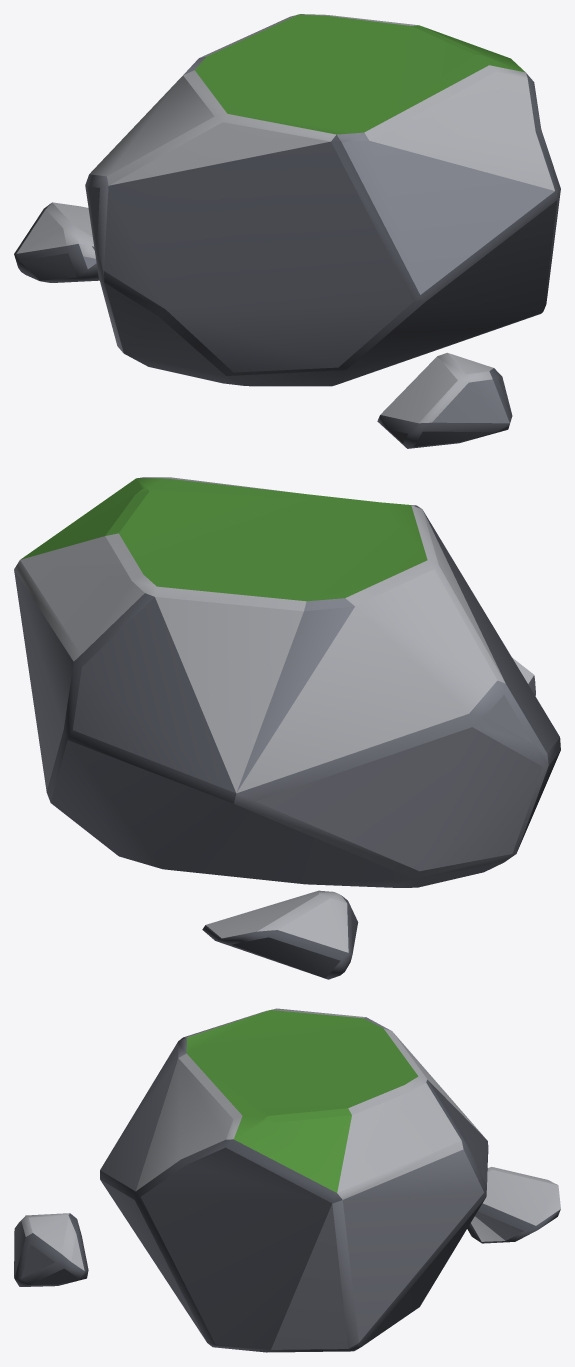
Rendered from Boulder_09.glb.
The picture shows the model from 3 angles, top to bottom: view 1: azimuth 30°, elevation 25°; view 2: azimuth 150°, elevation 25°; view 3: azimuth 270°, elevation 25°; orthographic projection. The views are drawn at different scales.
Parts seen in each view (by area): view 1: Boulder_09; view 2: Boulder_09; view 3: Boulder_09.
Boxes of the visible parts, box(x1,y1,x2,y2) form: Boulder_09: box(14, 14, 560, 448); Boulder_09: box(14, 477, 560, 979); Boulder_09: box(14, 1008, 560, 1352).
Size of the model in its own units: 4.72 by 2.56 by 5.72.
